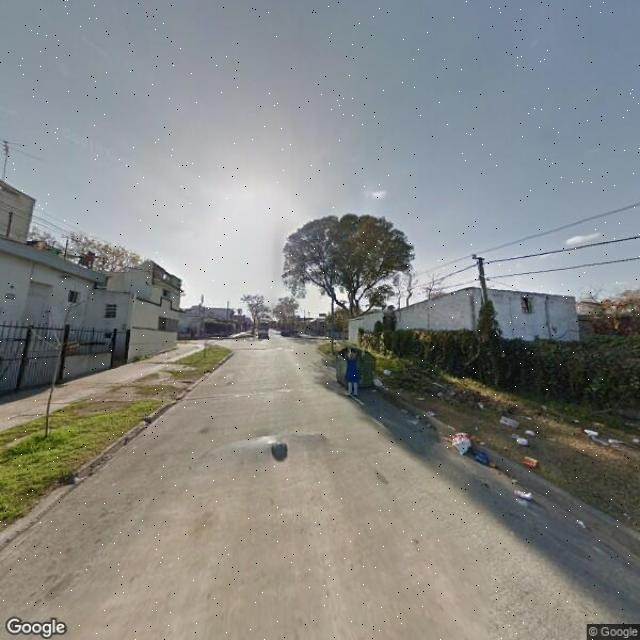garbage container: (332, 342, 388, 401)
